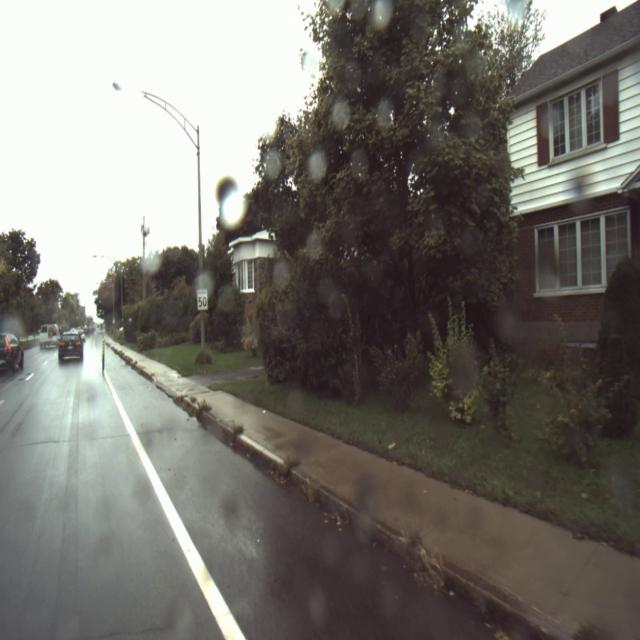car: (0, 332, 25, 377), (58, 330, 83, 363), (39, 324, 58, 351)
